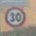limite 30: (2, 5, 27, 27)
